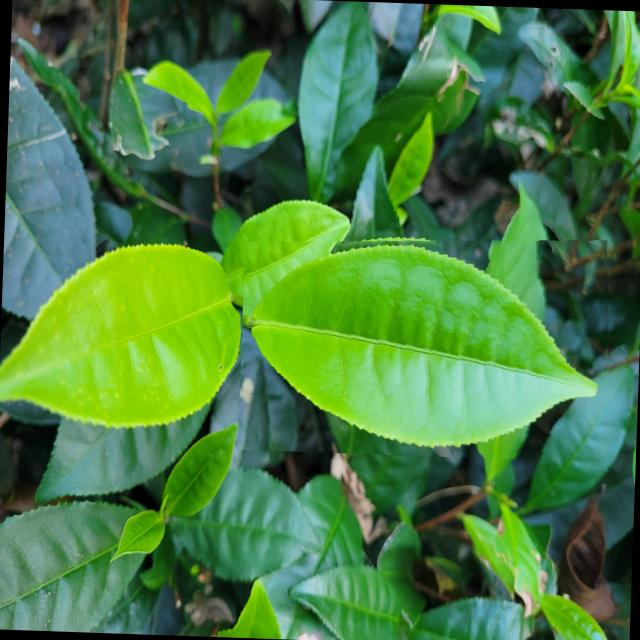Catagory A(1-2 days): (236, 227, 617, 462)
